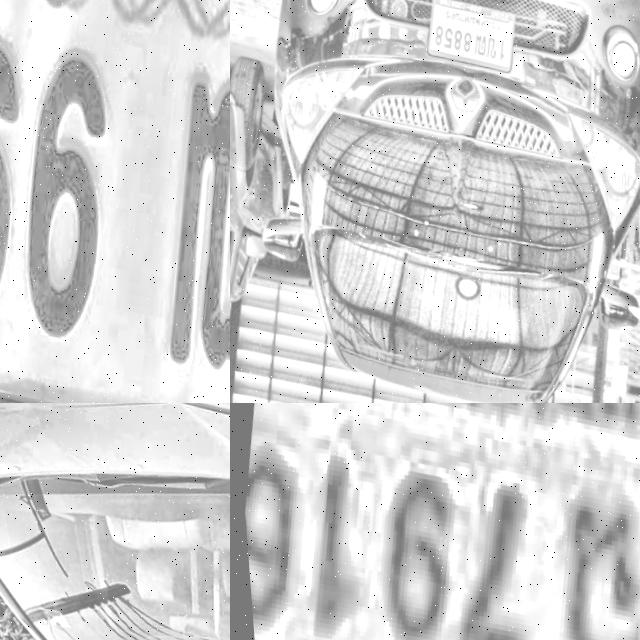license-plate: (230, 403, 640, 640), (0, 0, 230, 403), (417, 0, 521, 75)
